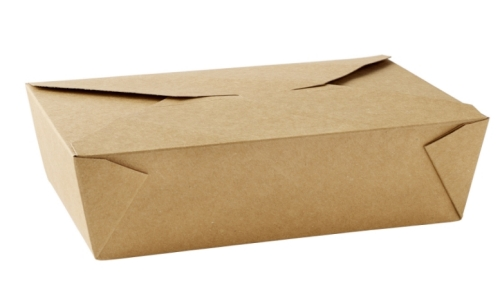Rec_Paper: (21, 57, 492, 265)
